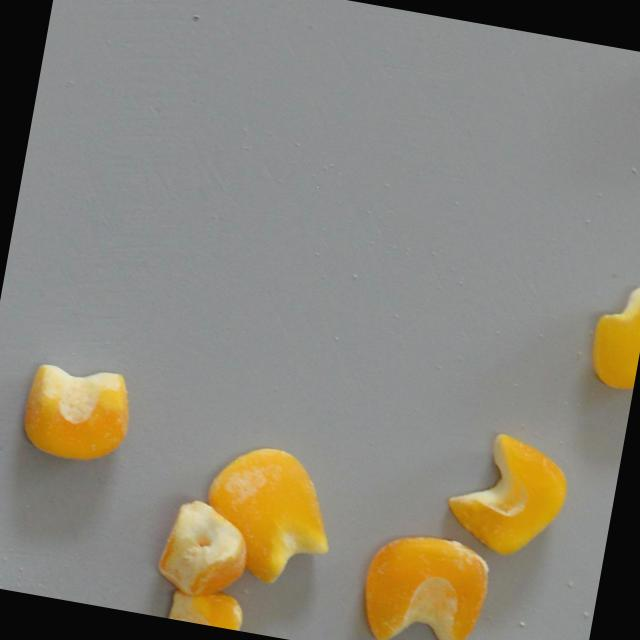no_canjicado: (439, 424, 576, 566), (194, 449, 343, 577), (581, 277, 640, 394), (151, 581, 247, 631)
no_desgerminado: (16, 359, 137, 469)
pelicula: (353, 524, 496, 640), (151, 496, 255, 605)
